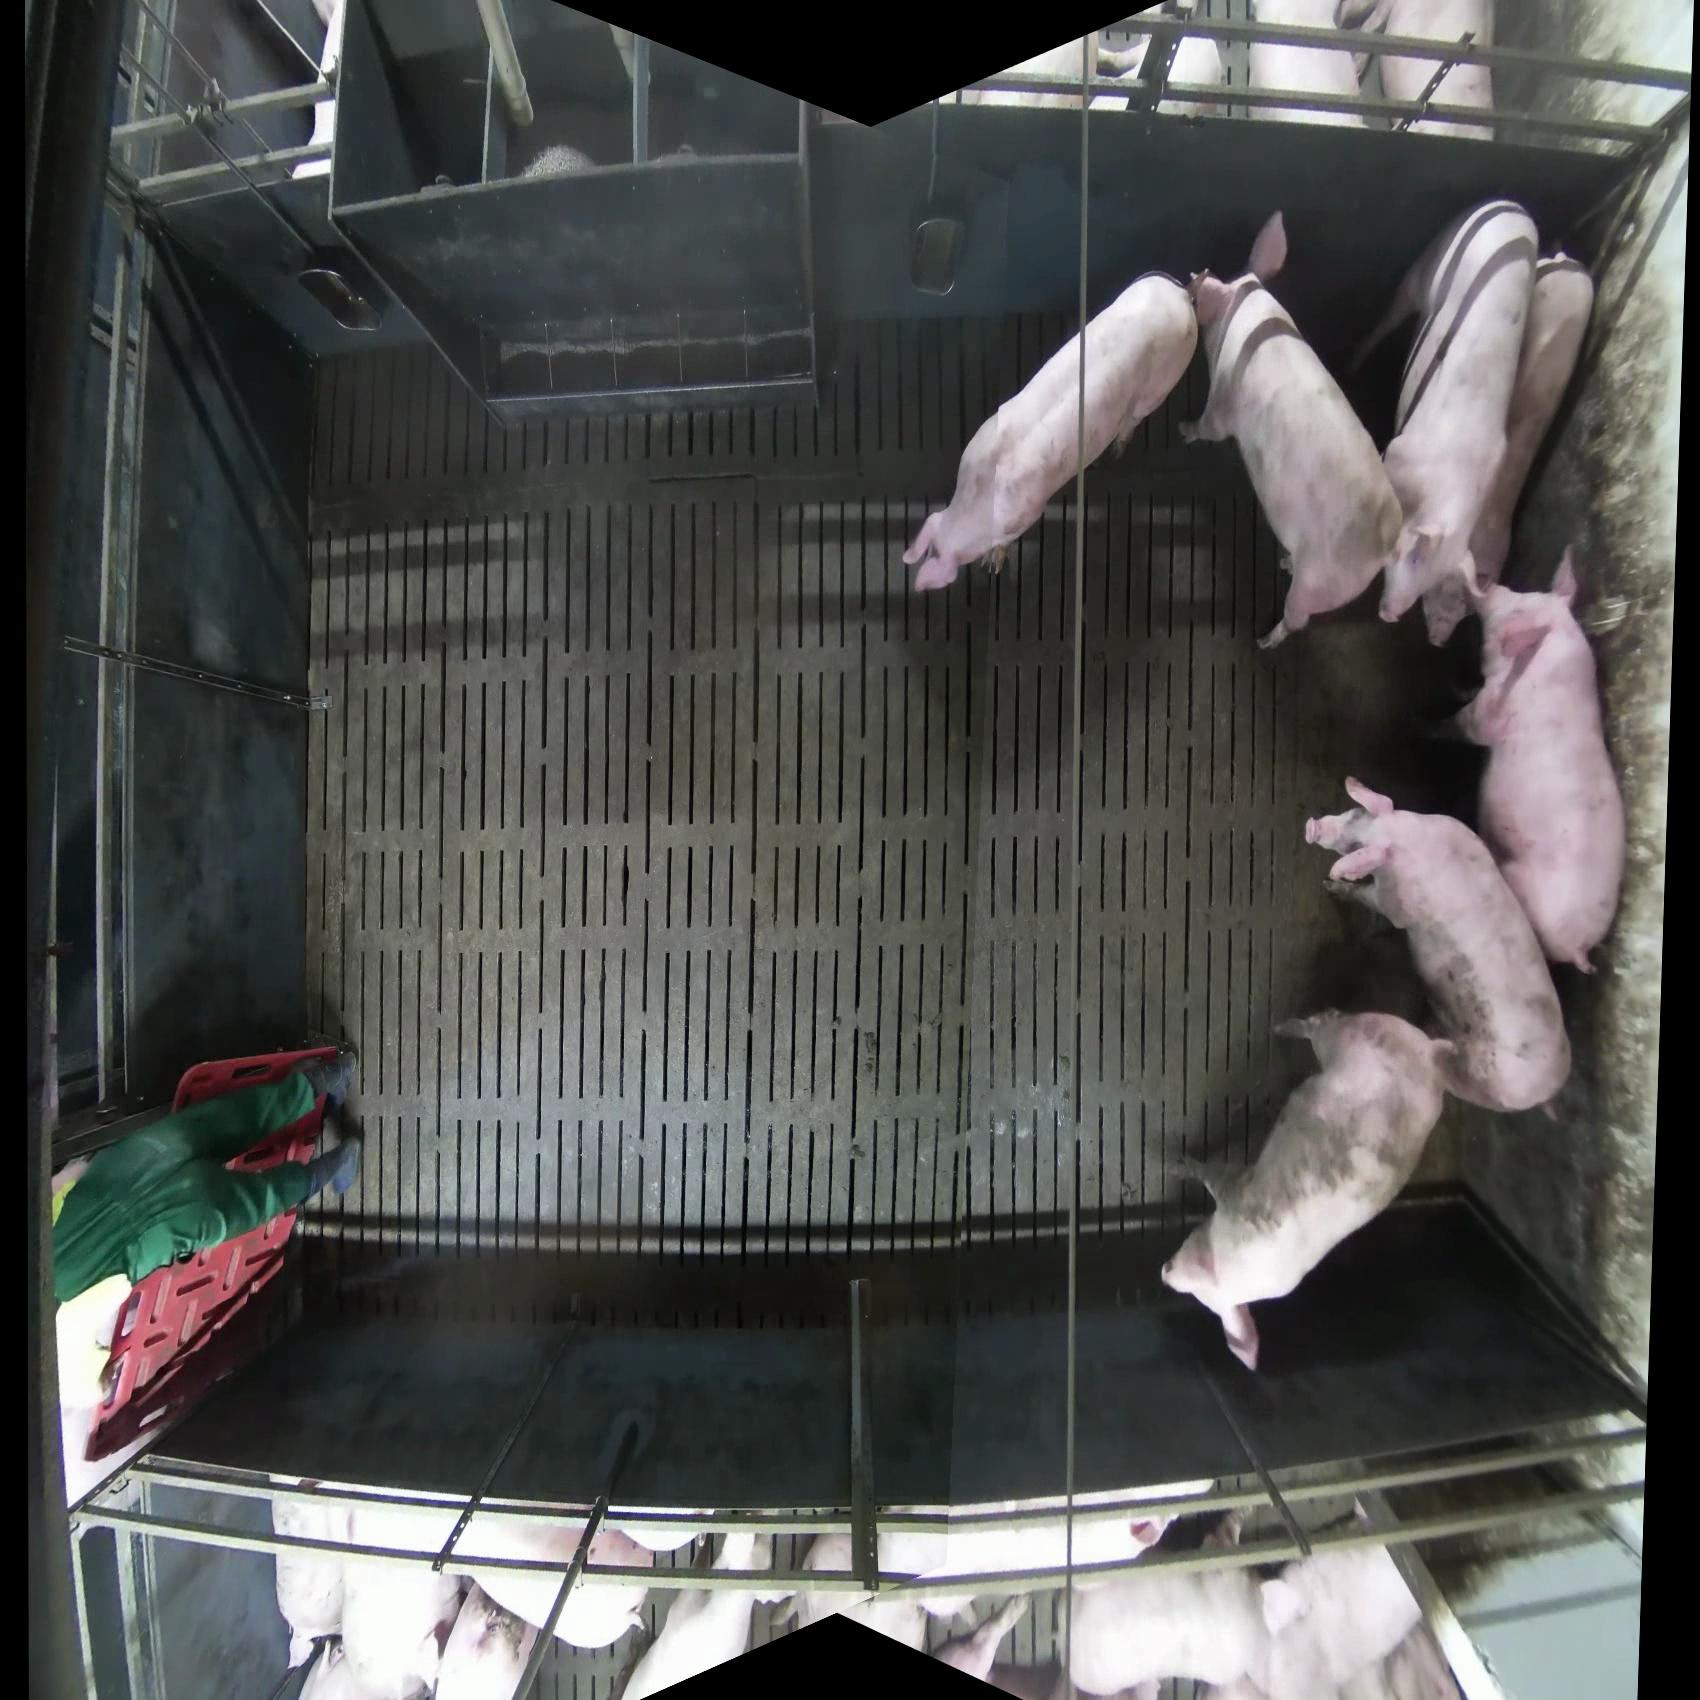pig: (1160, 1006, 1456, 1374), (901, 270, 1198, 596), (1303, 775, 1574, 1117), (1180, 256, 1407, 651), (270, 1487, 653, 1700), (1452, 543, 1629, 978), (1469, 248, 1597, 593), (784, 1525, 1032, 1684), (1065, 1507, 1268, 1699), (1253, 1497, 1425, 1699), (618, 1528, 775, 1699), (298, 1560, 464, 1700), (1337, 1, 1498, 142), (270, 1487, 355, 1672), (1246, 1, 1368, 128), (431, 1579, 548, 1699)
worker: (49, 1040, 363, 1509)
